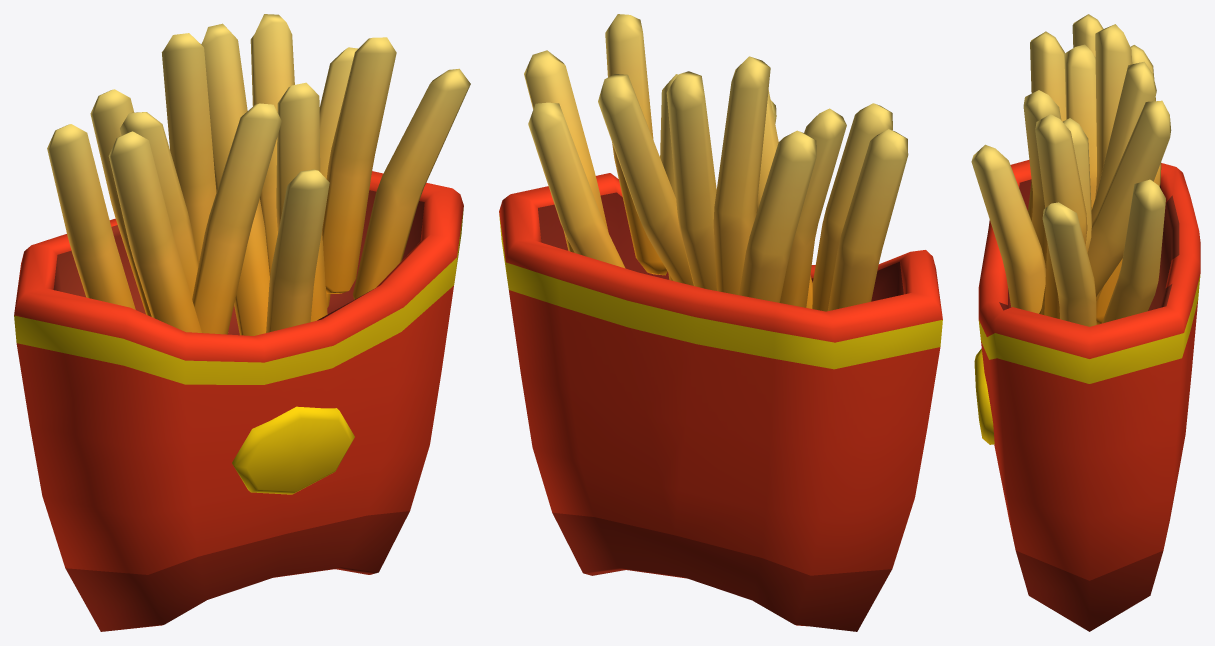
The model's file is Fries.fbx.
The picture shows the model from 3 angles, left to right: view 1: azimuth 30°, elevation 25°; view 2: azimuth 150°, elevation 25°; view 3: azimuth 270°, elevation 25°; orthographic projection. The views are drawn at different scales.
Parts seen in each view (by area): view 1: Map02_Khoaichien_LV5; view 2: Map02_Khoaichien_LV5; view 3: Map02_Khoaichien_LV5.
Boxes of the visible parts, bbox=[...] form: Map02_Khoaichien_LV5: bbox=[14, 14, 470, 631]; Map02_Khoaichien_LV5: bbox=[499, 14, 942, 631]; Map02_Khoaichien_LV5: bbox=[971, 14, 1200, 631].
Bounding box in the file's own units: 68.41 × 82.44 × 32.69.
